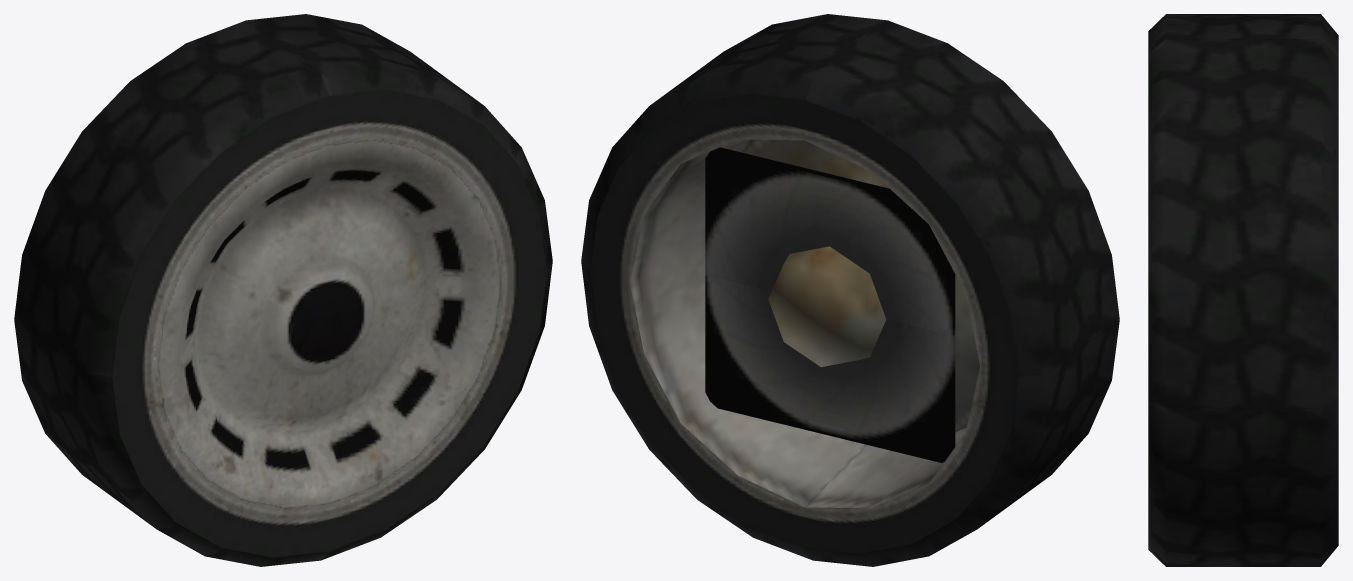
Rendered from V_A_ExoticMuscle_Wheel_4_SkeletalMesh3_SkeletalMesh_0.psk.glb.
3 renders of one model, left to right at view 1: azimuth 30°, elevation 25°; view 2: azimuth 150°, elevation 25°; view 3: azimuth 270°, elevation 25°, orthographic. The views are drawn at different scales.
Size of the model in its own units: 73.7 by 73.7 by 25.29.
Materials: 2 (2 with a texture image).
